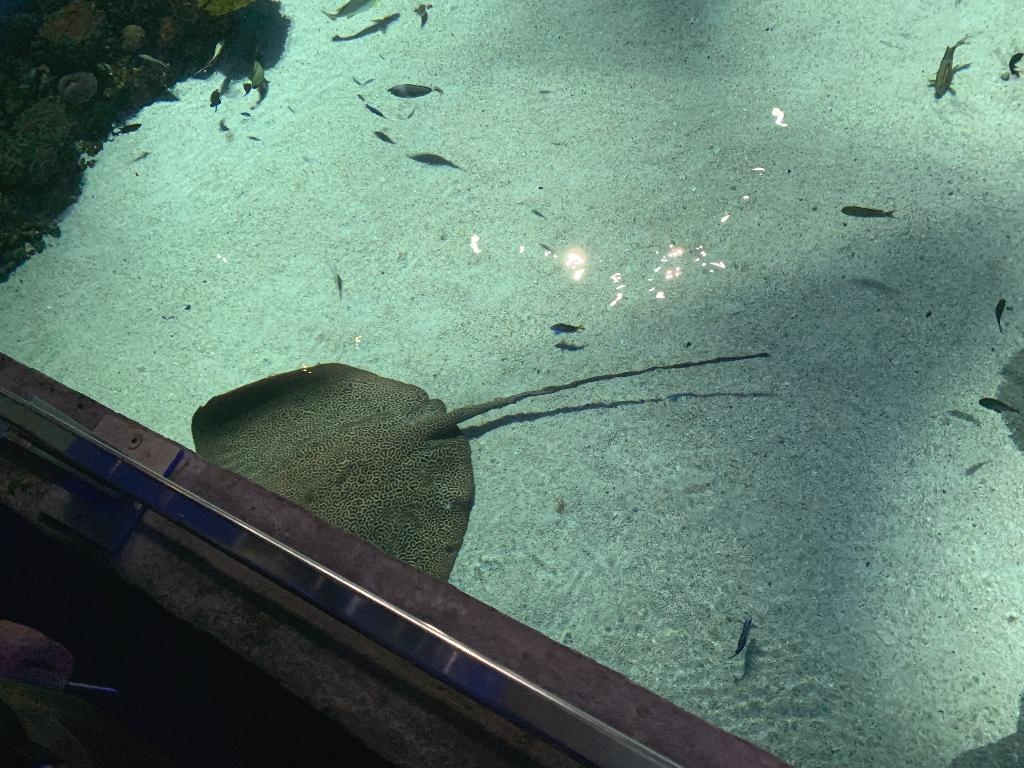fish: (929, 32, 971, 98), (333, 10, 403, 42), (728, 616, 758, 664), (320, 0, 380, 24), (196, 34, 226, 76), (241, 54, 269, 94), (404, 152, 464, 170), (138, 52, 174, 78), (840, 204, 898, 220), (976, 398, 1020, 416), (388, 83, 444, 97), (325, 266, 345, 296), (206, 88, 224, 112), (548, 322, 584, 334), (373, 130, 399, 146), (1008, 51, 1022, 80), (361, 101, 385, 117), (110, 124, 142, 136), (996, 298, 1006, 332), (529, 208, 545, 219)
stingray: (190, 362, 476, 586)
